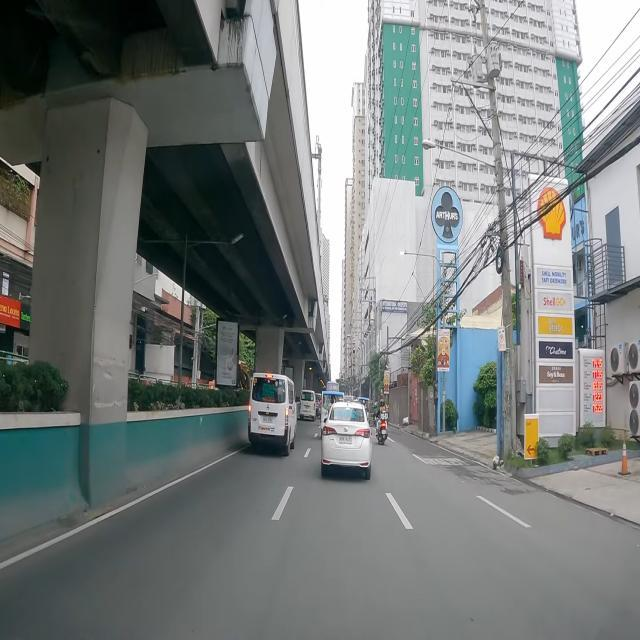bus: (326, 382, 339, 392)
car: (321, 401, 374, 479), (248, 372, 296, 456), (300, 389, 316, 422)
motorcycle: (376, 399, 388, 444)
